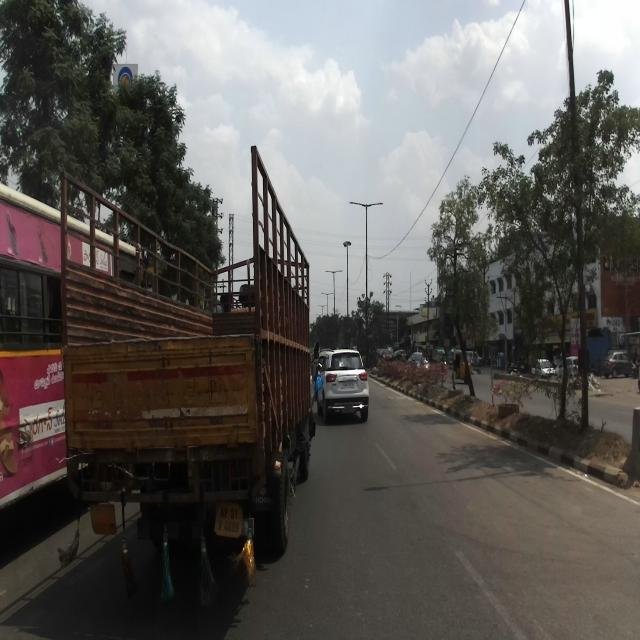car: (318, 345, 370, 422)
truck: (57, 144, 319, 600)
